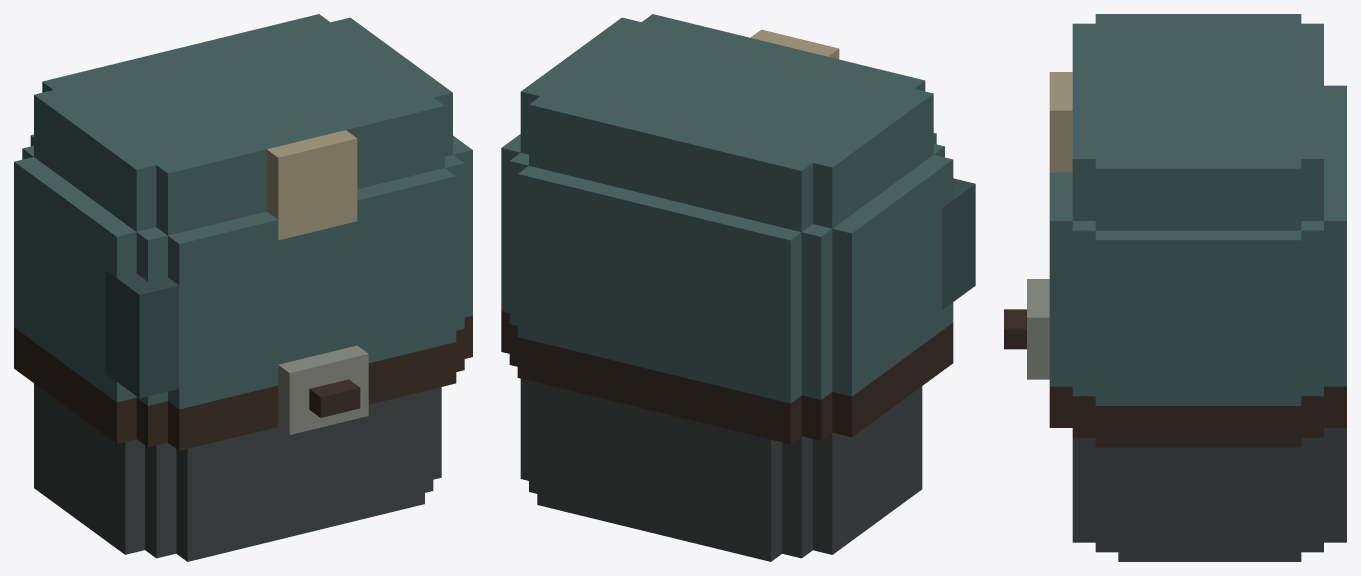
Rendered from body.glb.
3 views of the same model, side by side, from view 1: azimuth 30°, elevation 25°; view 2: azimuth 150°, elevation 25°; view 3: azimuth 270°, elevation 25° (orthographic).
Parts seen in each view (by area): view 1: VoxelVisual; view 2: VoxelVisual; view 3: VoxelVisual.
Part boxes in pixels (x1,y1,x2,y2): VoxelVisual: (14, 14, 472, 561); VoxelVisual: (501, 14, 975, 561); VoxelVisual: (1004, 14, 1346, 561).
Size of what is drawn, in the model's own units: 1.12 by 1.19 by 0.9375.
